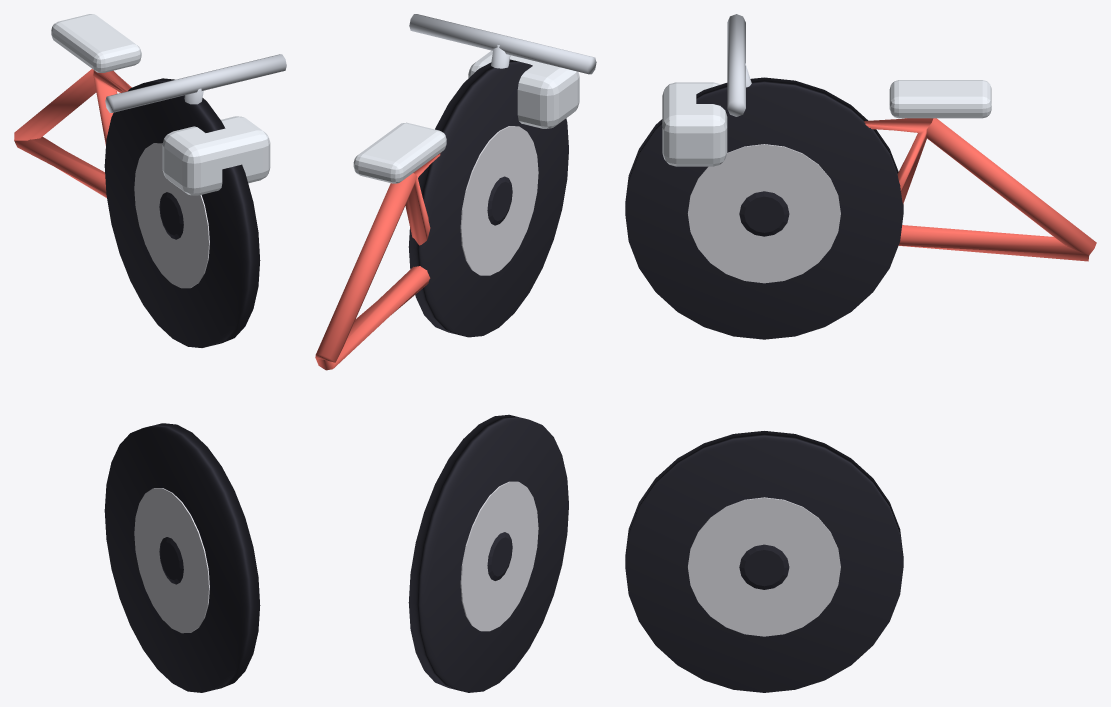
The model's file is Car_Bike.fbx.
3 renders of one model, left to right at view 1: azimuth 30°, elevation 25°; view 2: azimuth 150°, elevation 25°; view 3: azimuth 270°, elevation 25°, orthographic. The views are drawn at different scales.
Visible parts, largest first — view 1: Wheel_F, Wheel_R, Car_Bike; view 2: Wheel_F, Wheel_R, Car_Bike; view 3: Wheel_F, Wheel_R, Car_Bike.
Boxes of the visible parts, box(x1,y1,x2,y2) form: Wheel_F: box(104, 423, 260, 692); Wheel_R: box(104, 78, 260, 347); Car_Bike: box(14, 14, 286, 197); Wheel_F: box(408, 414, 568, 692); Wheel_R: box(408, 59, 568, 337); Car_Bike: box(315, 14, 596, 370); Wheel_F: box(625, 431, 903, 692); Wheel_R: box(625, 77, 903, 339); Car_Bike: box(662, 14, 1096, 261).
Size of the model in its own units: 0.44 by 1.5 by 1.02.
